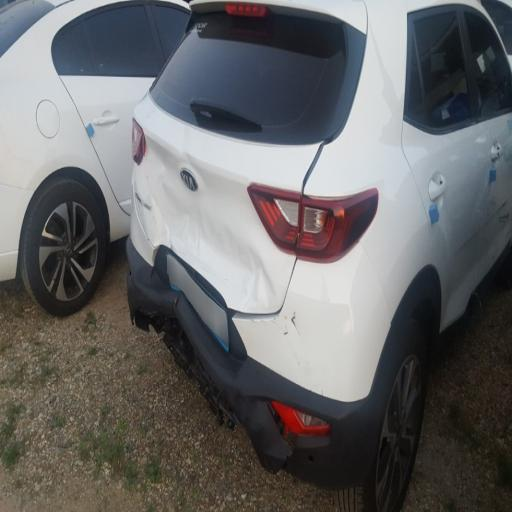broken: (135, 232, 257, 436)
dent: (141, 133, 290, 323)
